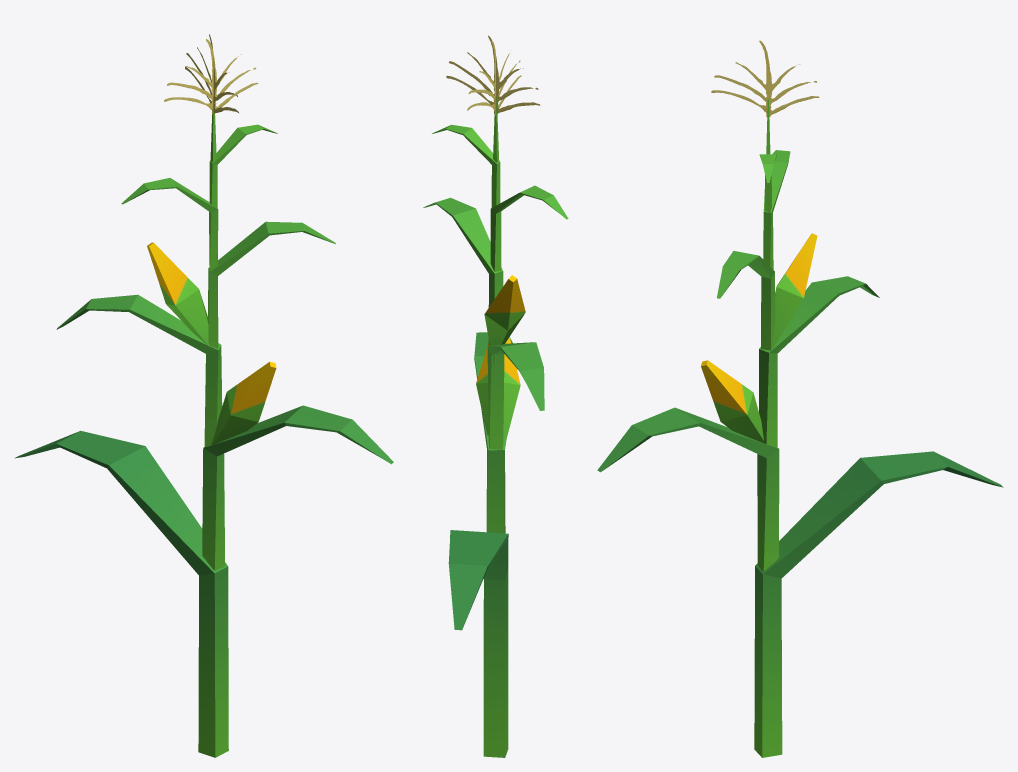
Rendered from corn6.glb.
3 renders of one model, left to right at view 1: azimuth 30°, elevation 25°; view 2: azimuth 150°, elevation 25°; view 3: azimuth 270°, elevation 25°, orthographic.
Visible parts, largest first — view 1: Corn6; view 2: Corn6; view 3: Corn6.
Boxes of the visible parts, <box> form: Corn6: <box>15,34,393,757</box>; Corn6: <box>423,35,568,757</box>; Corn6: <box>597,40,1003,757</box>.
Size of the model in its own units: 0.7085 by 2.41 by 1.25.
Materials: 1 (1 with a texture image).
